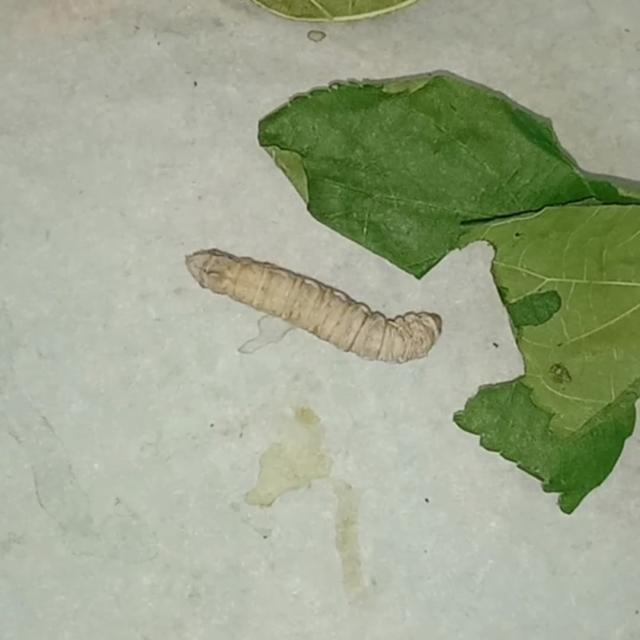Grasserie: (175, 236, 454, 374)
